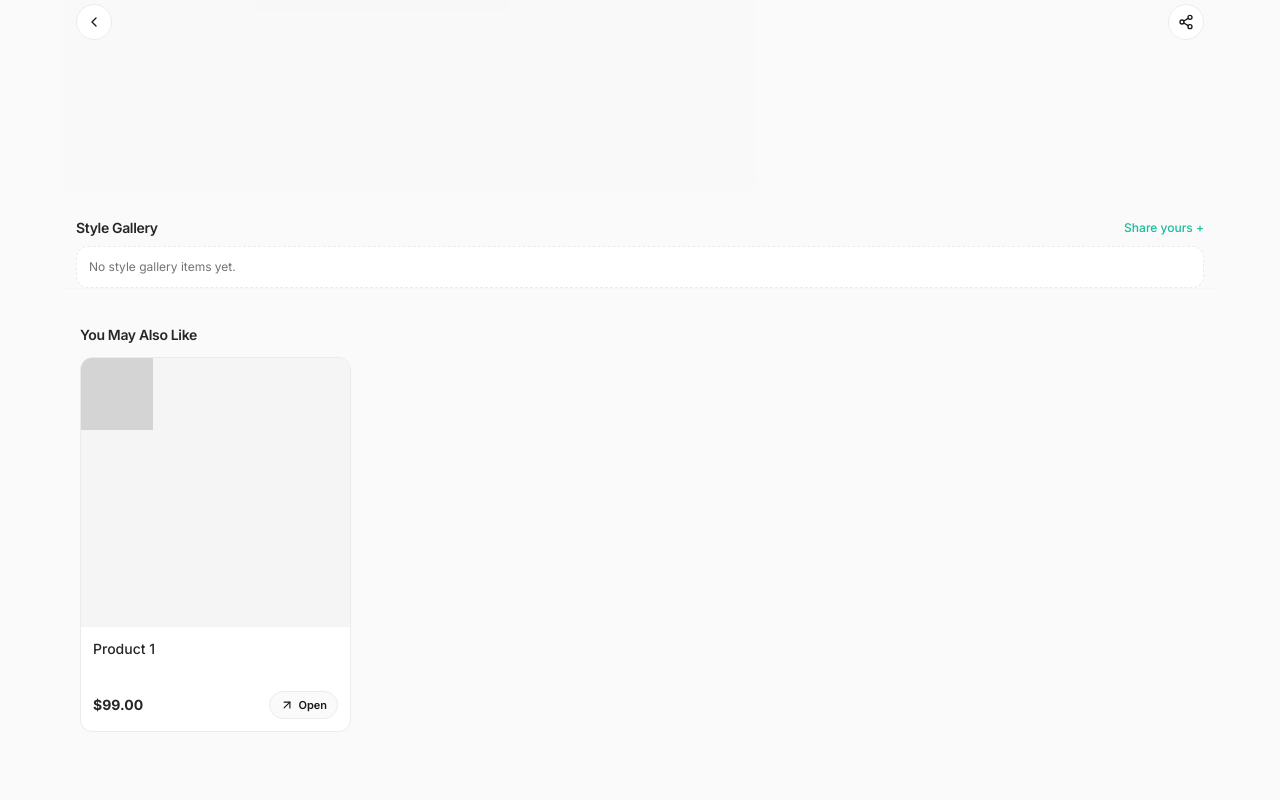
PdpContainer recommendations interactions › enriches placeholder external-seed variants from exact pdp v2 before opening the quick-action sheet
(page scrolled)
Click the button with aria-label "open product 1".
click(304, 705)  # box [269, 691, 338, 719]
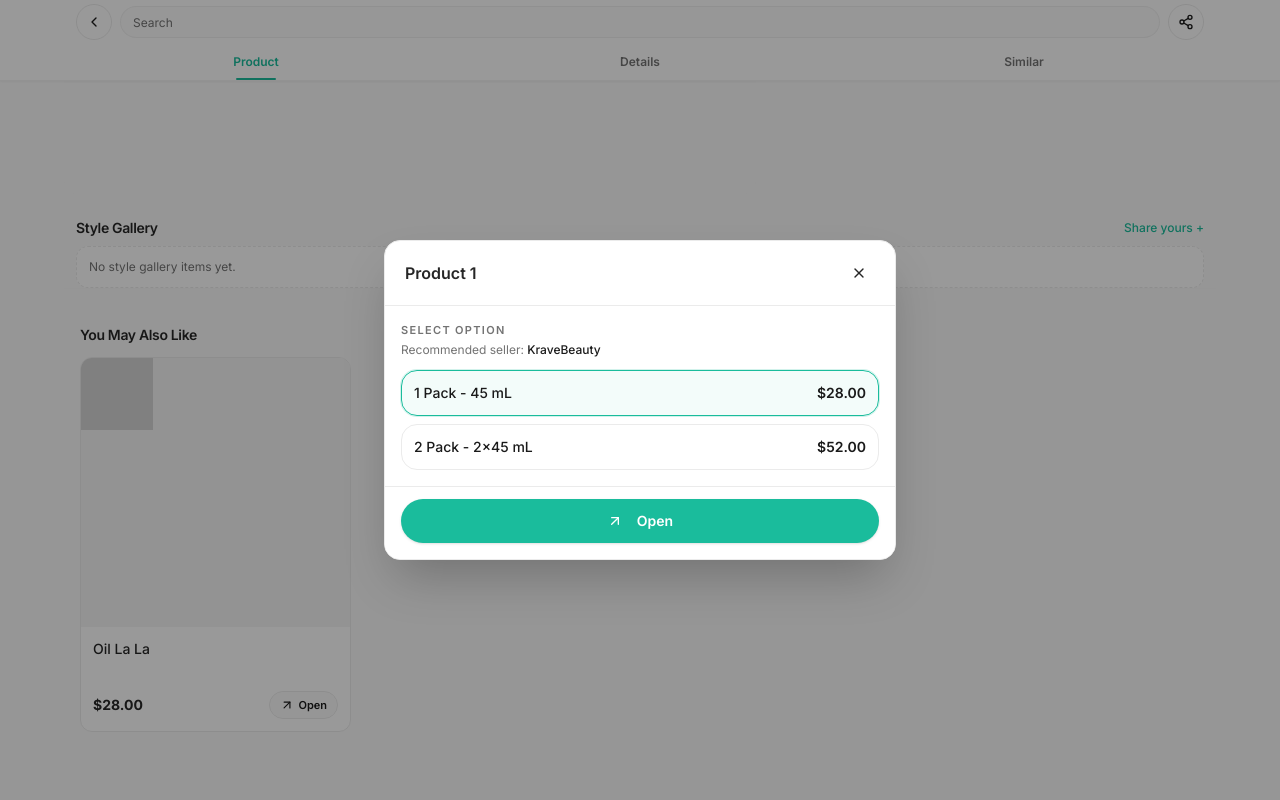
Check: the text "1 Pack - 45 mL" is shown, box [414, 384, 512, 401]
Check: the text "2 Pack - 2x45 mL" is shown, box [414, 438, 533, 455]
